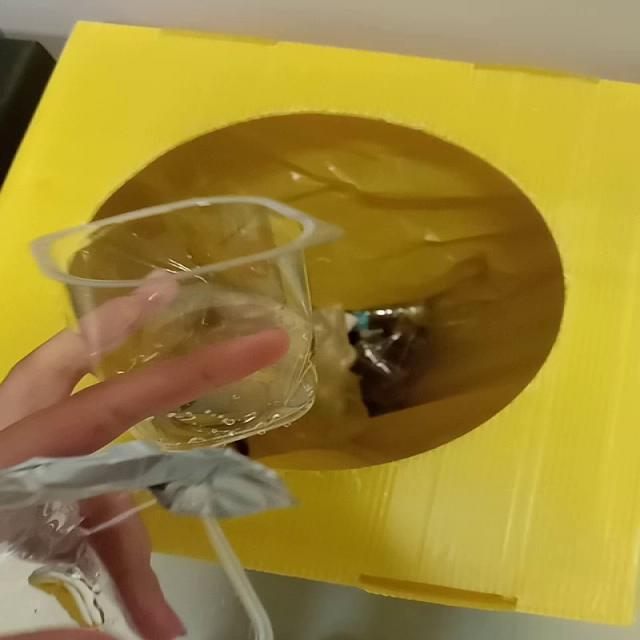plastic: (31, 198, 343, 450)
